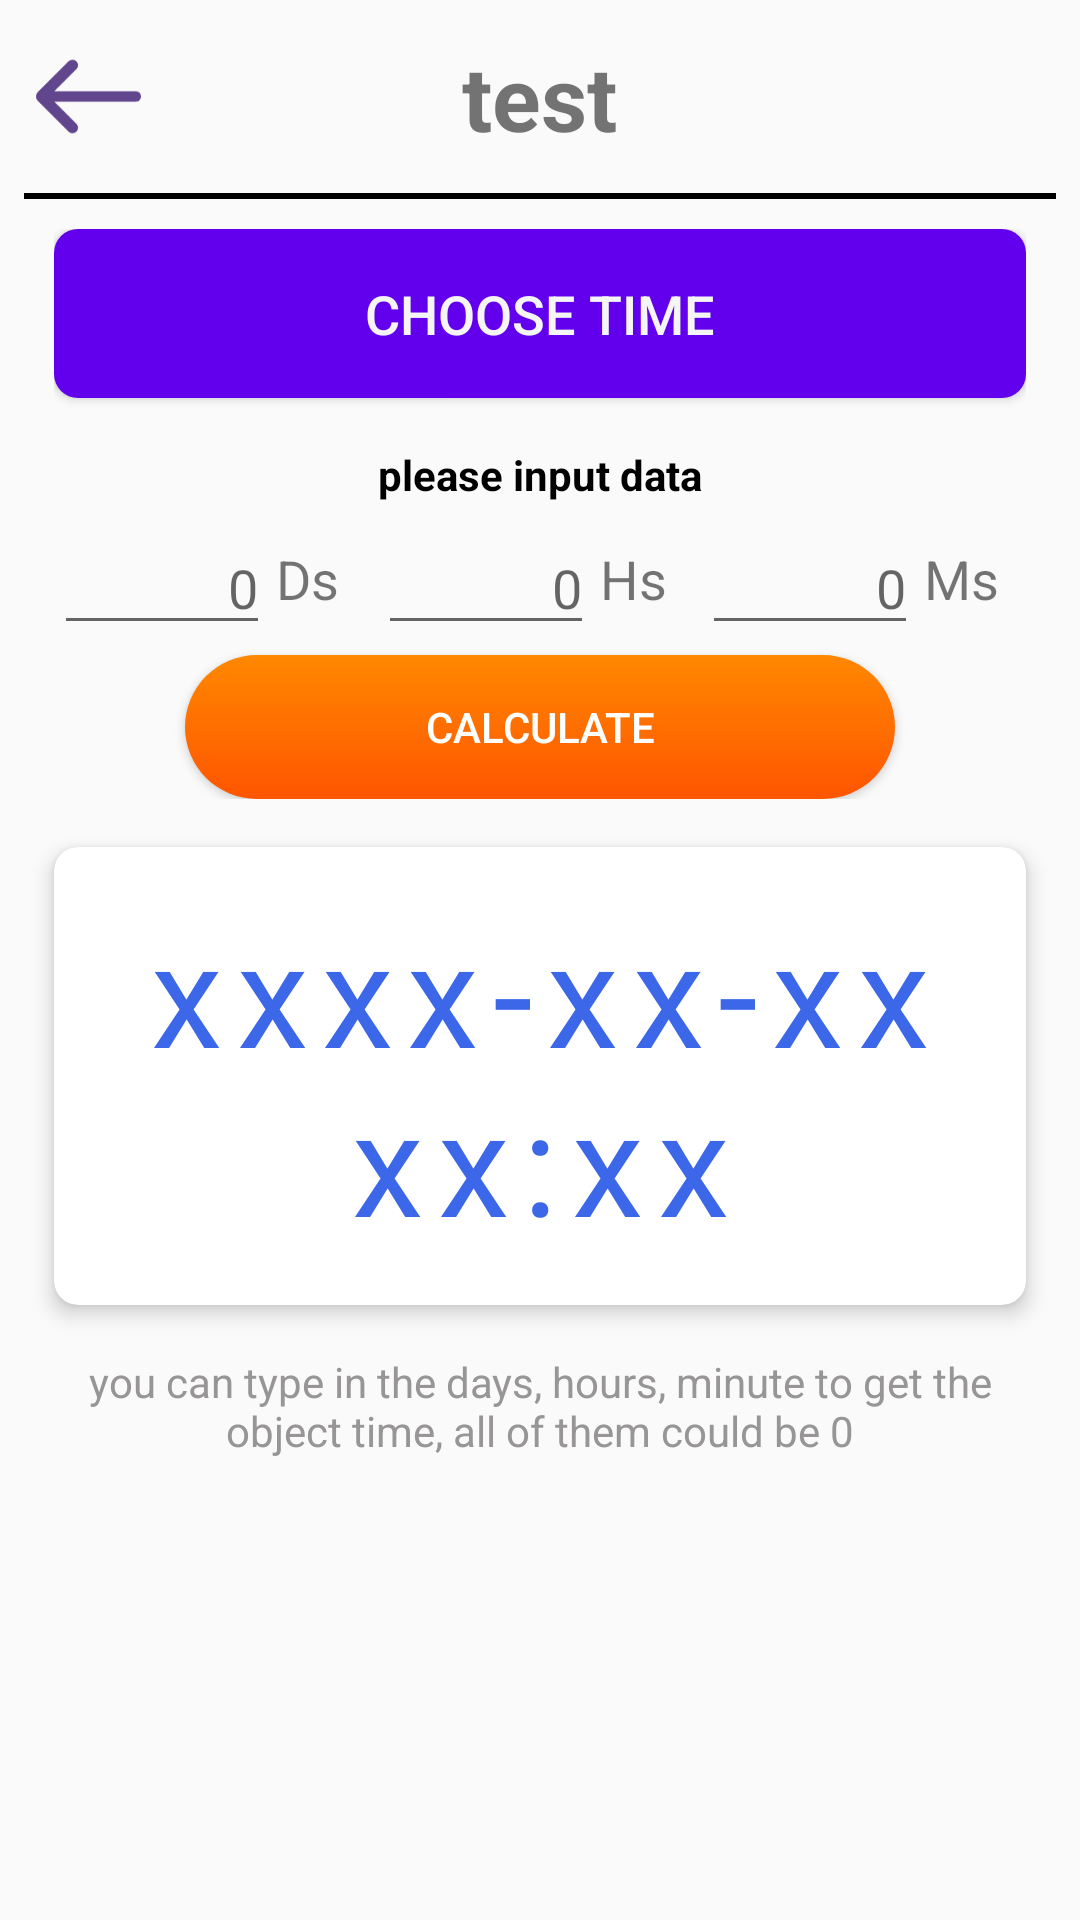

Screen size 1080*1920. Icon name, then its box in pixels as (x1, y1, x2, y2):
back: (36, 59, 141, 134)
